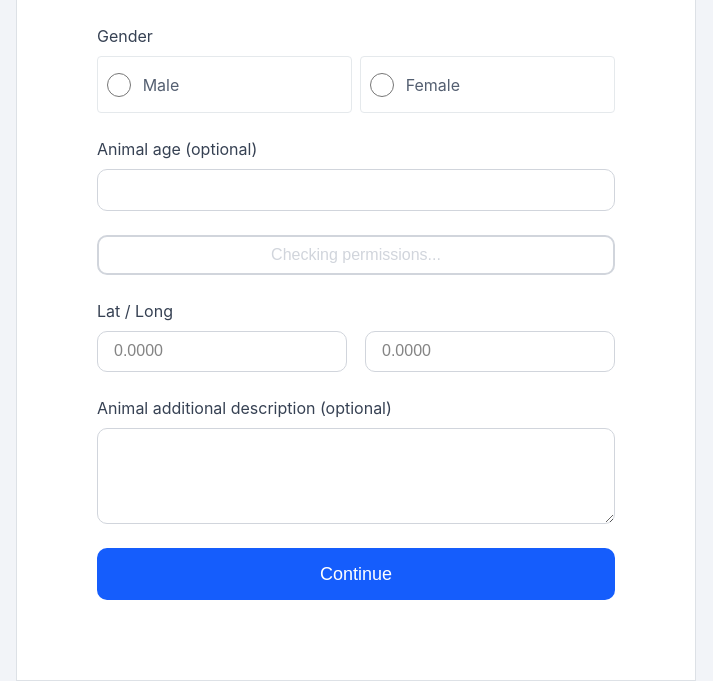
Scenario: DetailsScreen › validation errors › should display toast when submitting invalid form
(page scrolled)
Click the button with test id "details.continue.click": click(356, 574) [97,548,615,600]
(page scrolled)
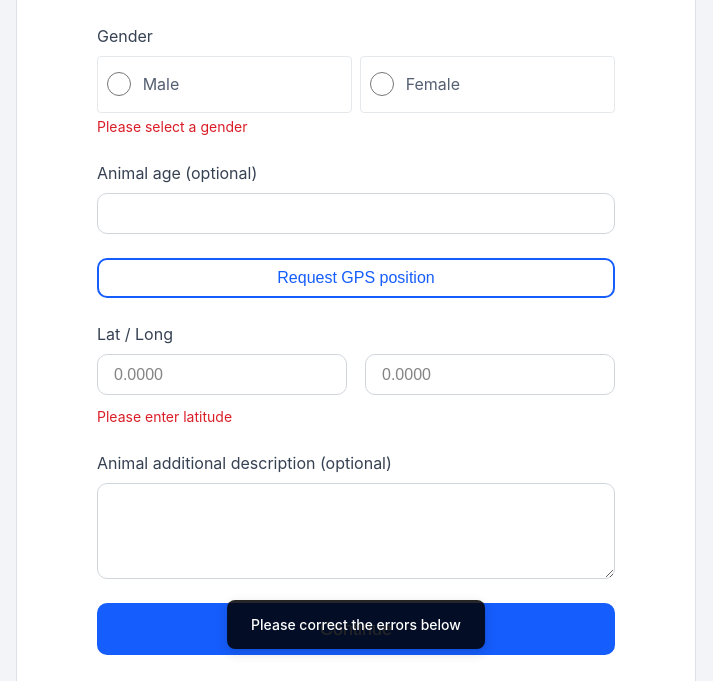
Result: the text "Please correct the errors below" is shown at [227,600,485,649]
Result: the text with test id "toast.message" reads "Please correct the errors below" at [251,616,461,633]
